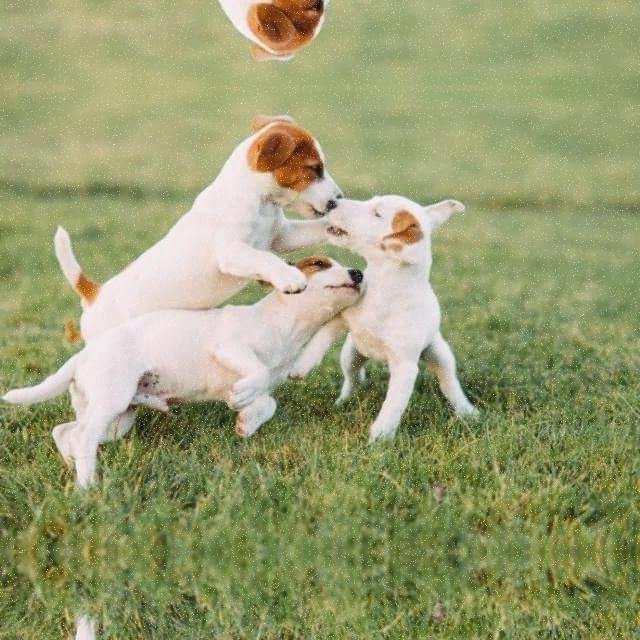dog: (24, 110, 338, 350), (24, 0, 338, 66)
